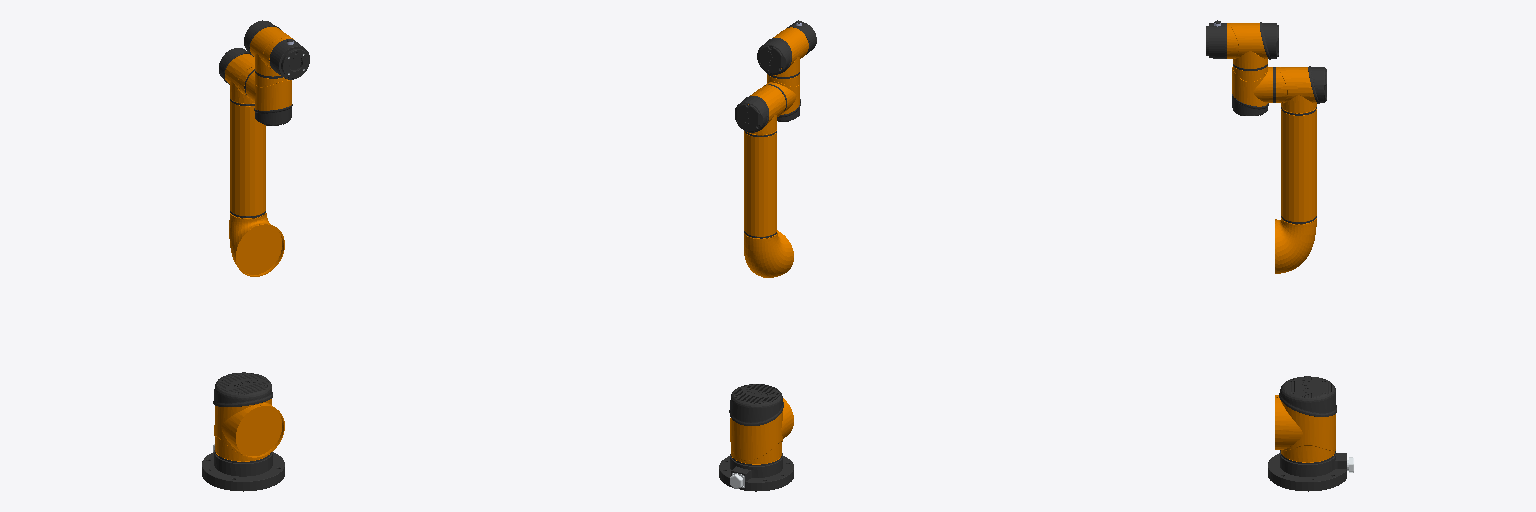
robot.urdf — aubo_i5:
<?xml version="1.0" ?>
<!-- =================================================================================== -->
<!-- |    This document was autogenerated by xacro from aubo_i5.xacro                  | -->
<!-- |    EDITING THIS FILE BY HAND IS NOT RECOMMENDED                                 | -->
<!-- =================================================================================== -->
<robot name="aubo_i5">
  <transmission name="shoulder_pan_joint_trans">
    <type>transmission_interface/SimpleTransmission</type>
    <joint name="shoulder_pan_joint">
      <hardwareInterface>hardware_interface/PositionJointInterface</hardwareInterface>
    </joint>
    <actuator name="shoulder_pan_joint_motor">
      <mechanicalReduction>1</mechanicalReduction>
      <hardwareInterface>hardware_interface/PositionJointInterface</hardwareInterface>
    </actuator>
  </transmission>
  <transmission name="shoulder_lift_joint_trans">
    <type>transmission_interface/SimpleTransmission</type>
    <joint name="shoulder_lift_joint">
      <hardwareInterface>hardware_interface/PositionJointInterface</hardwareInterface>
    </joint>
    <actuator name="shoulder_lift_joint_motor">
      <mechanicalReduction>1</mechanicalReduction>
      <hardwareInterface>hardware_interface/PositionJointInterface</hardwareInterface>
    </actuator>
  </transmission>
  <transmission name="elbow_joint_trans">
    <type>transmission_interface/SimpleTransmission</type>
    <joint name="elbow_joint">
      <hardwareInterface>hardware_interface/PositionJointInterface</hardwareInterface>
    </joint>
    <actuator name="elbow_joint_motor">
      <mechanicalReduction>1</mechanicalReduction>
      <hardwareInterface>hardware_interface/PositionJointInterface</hardwareInterface>
    </actuator>
  </transmission>
  <transmission name="wrist_1_joint_trans">
    <type>transmission_interface/SimpleTransmission</type>
    <joint name="wrist_1_joint">
      <hardwareInterface>hardware_interface/PositionJointInterface</hardwareInterface>
    </joint>
    <actuator name="wrist_1_joint_motor">
      <mechanicalReduction>1</mechanicalReduction>
      <hardwareInterface>hardware_interface/PositionJointInterface</hardwareInterface>
    </actuator>
  </transmission>
  <transmission name="wrist_2_joint_trans">
    <type>transmission_interface/SimpleTransmission</type>
    <joint name="wrist_2_joint">
      <hardwareInterface>hardware_interface/PositionJointInterface</hardwareInterface>
    </joint>
    <actuator name="wrist_2_joint_motor">
      <mechanicalReduction>1</mechanicalReduction>
      <hardwareInterface>hardware_interface/PositionJointInterface</hardwareInterface>
    </actuator>
  </transmission>
  <transmission name="wrist_3_joint_trans">
    <type>transmission_interface/SimpleTransmission</type>
    <joint name="wrist_3_joint">
      <hardwareInterface>hardware_interface/PositionJointInterface</hardwareInterface>
    </joint>
    <actuator name="wrist_3_joint_motor">
      <mechanicalReduction>1</mechanicalReduction>
      <hardwareInterface>hardware_interface/PositionJointInterface</hardwareInterface>
    </actuator>
  </transmission>
  <gazebo reference="base_link">
    <kp>1000000.0</kp>
    <kd>1.0</kd>
    <mu1>0.8</mu1>
    <mu2>0.8</mu2>
    <maxVel>0.0</maxVel>
    <minDepth>0.001</minDepth>
    <selfCollide>true</selfCollide>
  </gazebo>
  <gazebo reference="shoulder_link">
    <kp>1000000.0</kp>
    <kd>1.0</kd>
    <mu1>0.8</mu1>
    <mu2>0.8</mu2>
    <maxVel>0.0</maxVel>
    <minDepth>0.001</minDepth>
    <selfCollide>true</selfCollide>
  </gazebo>
  <gazebo reference="upper_arm_link">
    <kp>1000000.0</kp>
    <kd>1.0</kd>
    <mu1>0.8</mu1>
    <mu2>0.8</mu2>
    <maxVel>0.0</maxVel>
    <minDepth>0.001</minDepth>
    <selfCollide>true</selfCollide>
  </gazebo>
  <gazebo reference="forearm_link">
    <kp>1000000.0</kp>
    <kd>1.0</kd>
    <mu1>0.8</mu1>
    <mu2>0.8</mu2>
    <maxVel>0.0</maxVel>
    <minDepth>0.001</minDepth>
    <selfCollide>true</selfCollide>
  </gazebo>
  <gazebo reference="wrist_1_link">
    <kp>1000000.0</kp>
    <kd>1.0</kd>
    <mu1>0.8</mu1>
    <mu2>0.8</mu2>
    <maxVel>0.0</maxVel>
    <minDepth>0.001</minDepth>
    <selfCollide>true</selfCollide>
  </gazebo>
  <gazebo reference="wrist_2_link">
    <kp>1000000.0</kp>
    <kd>1.0</kd>
    <mu1>0.8</mu1>
    <mu2>0.8</mu2>
    <maxVel>0.0</maxVel>
    <minDepth>0.001</minDepth>
    <selfCollide>true</selfCollide>
  </gazebo>
  <gazebo reference="wrist_3_link">
    <kp>1000000.0</kp>
    <kd>1.0</kd>
    <mu1>0.8</mu1>
    <mu2>0.8</mu2>
    <maxVel>0.0</maxVel>
    <minDepth>0.001</minDepth>
    <selfCollide>true</selfCollide>
  </gazebo>
  <gazebo reference="shoulder_pan_joint">
    <kp>1000000.0</kp>
    <kd>1.0</kd>
    <mu1>0.8</mu1>
    <mu2>0.8</mu2>
    <maxVel>0.0</maxVel>
    <minDepth>0.001</minDepth>
    <selfCollide>true</selfCollide>
  </gazebo>
  <gazebo reference="shoulder_lift_joint">
    <kp>1000000.0</kp>
    <kd>1.0</kd>
    <mu1>0.8</mu1>
    <mu2>0.8</mu2>
    <maxVel>0.0</maxVel>
    <minDepth>0.001</minDepth>
    <selfCollide>true</selfCollide>
  </gazebo>
  <gazebo reference="elbow_joint">
    <kp>1000000.0</kp>
    <kd>1.0</kd>
    <mu1>0.8</mu1>
    <mu2>0.8</mu2>
    <maxVel>0.0</maxVel>
    <minDepth>0.001</minDepth>
    <selfCollide>true</selfCollide>
  </gazebo>
  <gazebo reference="wrist_1_joint">
    <kp>1000000.0</kp>
    <kd>1.0</kd>
    <mu1>0.8</mu1>
    <mu2>0.8</mu2>
    <maxVel>0.0</maxVel>
    <minDepth>0.001</minDepth>
    <selfCollide>true</selfCollide>
  </gazebo>
  <gazebo reference="wrist_2_joint">
    <kp>1000000.0</kp>
    <kd>1.0</kd>
    <mu1>0.8</mu1>
    <mu2>0.8</mu2>
    <maxVel>0.0</maxVel>
    <minDepth>0.001</minDepth>
    <selfCollide>true</selfCollide>
  </gazebo>
  <gazebo reference="wrist_3_joint">
    <kp>1000000.0</kp>
    <kd>1.0</kd>
    <mu1>0.8</mu1>
    <mu2>0.8</mu2>
    <maxVel>0.0</maxVel>
    <minDepth>0.001</minDepth>
    <selfCollide>true</selfCollide>
  </gazebo>
  <link name="base_link">
    <inertial>
      <origin rpy="0 0 0" xyz="5.280333978763784e-09 0.0015966894220128586 0.016570455971104445"/>
      <mass value="1.4382166298722134"/>
      <inertia ixx="0.003103" ixy="-0.0" ixz="-0.0" iyy="0.002858" iyz="-4.9e-05" izz="0.005531"/>
    </inertial>
    <visual>
      <origin rpy="-1.5707963267948966 0 0" xyz="0 0 0"/>
      <geometry>
        <mesh filename="package://aubo_i5_description/meshes/visual/base_link.dae" scale="0.001 0.001 0.001"/>
      </geometry>
    </visual>
    <collision>
      <origin rpy="0 0 0" xyz="0 0 0"/>
      <geometry>
        <mesh filename="package://aubo_i5_description/meshes/collision/base_link.stl" scale="0.001 0.001 0.001"/>
      </geometry>
    </collision>
  </link>
  <link name="shoulder_link">
    <inertial>
      <origin rpy="0 0 0" xyz="-4.185040550529615e-07 -0.00538388048820414 0.06988520317439471"/>
      <mass value="3.9977368906576385"/>
      <inertia ixx="0.010612" ixy="-0.0" ixz="0.0" iyy="0.010271" iyz="0.000382" izz="0.007824"/>
    </inertial>
    <visual>
      <origin rpy="-1.5707963267948966 0 0" xyz="0.0 -0.0 -0.0435"/>
      <geometry>
        <mesh filename="package://aubo_i5_description/meshes/visual/shoulder_link.dae" scale="0.001 0.001 0.001"/>
      </geometry>
    </visual>
    <collision>
      <origin rpy="0 0 0" xyz="0.0 -0.0 -0.0435"/>
      <geometry>
        <mesh filename="package://aubo_i5_description/meshes/collision/shoulder_link.stl" scale="0.001 0.001 0.001"/>
      </geometry>
    </collision>
  </link>
  <link name="upper_arm_link">
    <inertial>
      <origin rpy="0 0 0" xyz="4.5155821807648865e-10 -0.0717893986201179 0.20400016275508465"/>
      <mass value="10.264360778757078"/>
      <inertia ixx="0.367413" ixy="-0.0" ixz="1e-06" iyy="0.361705" iyz="-0.0" izz="0.024156"/>
    </inertial>
    <visual>
      <origin rpy="-1.5707963267948966 0 0" xyz="0.0 0.062 -0.122"/>
      <geometry>
        <mesh filename="package://aubo_i5_description/meshes/visual/upper_arm_link.dae" scale="0.001 0.001 0.001"/>
      </geometry>
    </visual>
    <collision>
      <origin rpy="0 0 0" xyz="0.0 0.062 -0.122"/>
      <geometry>
        <mesh filename="package://aubo_i5_description/meshes/collision/upper_arm_link.stl" scale="0.001 0.001 0.001"/>
      </geometry>
    </collision>
  </link>
  <link name="forearm_link">
    <inertial>
      <origin rpy="0 0 0" xyz="-8.598904331136158e-08 0.03777959596600701 0.18625691250689058"/>
      <mass value="5.717058820664718"/>
      <inertia ixx="0.110129" ixy="-0.0" ixz="0.0" iyy="0.109705" iyz="-0.000971" izz="0.005171"/>
    </inertial>
    <visual>
      <origin rpy="-1.5707963267948966 0 0" xyz="0.0 0.062 -0.53"/>
      <geometry>
        <mesh filename="package://aubo_i5_description/meshes/visual/forearm_link.dae" scale="0.001 0.001 0.001"/>
      </geometry>
    </visual>
    <collision>
      <origin rpy="0 0 0" xyz="0.0 0.062 -0.53"/>
      <geometry>
        <mesh filename="package://aubo_i5_description/meshes/collision/forearm_link.stl" scale="0.001 0.001 0.001"/>
      </geometry>
    </collision>
  </link>
  <link name="wrist_1_link">
    <inertial>
      <origin rpy="0 0 0" xyz="4.043690373112674e-07 -0.03781762705264109 0.010378004019249931"/>
      <mass value="1.1959791801557391"/>
      <inertia ixx="0.001481" ixy="0.0" ixz="0.0" iyy="0.001416" iyz="7.9e-05" izz="0.000986"/>
    </inertial>
    <visual>
      <origin rpy="-1.5707963267948966 0 0" xyz="0.0 0.0795 -0.906"/>
      <geometry>
        <mesh filename="package://aubo_i5_description/meshes/visual/wrist_1_link.dae" scale="0.001 0.001 0.001"/>
      </geometry>
    </visual>
    <collision>
      <origin rpy="0 0 0" xyz="0.0 0.0795 -0.906"/>
      <geometry>
        <mesh filename="package://aubo_i5_description/meshes/collision/wrist_1_link.stl" scale="0.001 0.001 0.001"/>
      </geometry>
    </collision>
  </link>
  <link name="wrist_2_link">
    <inertial>
      <origin rpy="0 0 0" xyz="-3.835911159071275e-07 -0.010378293494720053 0.03781729945949308"/>
      <mass value="1.195979134054204"/>
      <inertia ixx="0.001481" ixy="0.0" ixz="0.0" iyy="0.000986" iyz="7.9e-05" izz="0.001416"/>
    </inertial>
    <visual>
      <origin rpy="-1.5707963267948966 0 0" xyz="0.0 0.1215 -0.96656"/>
      <geometry>
        <mesh filename="package://aubo_i5_description/meshes/visual/wrist_2_link.dae" scale="0.001 0.001 0.001"/>
      </geometry>
    </visual>
    <collision>
      <origin rpy="0 0 0" xyz="0.0 0.1215 -0.96656"/>
      <geometry>
        <mesh filename="package://aubo_i5_description/meshes/collision/wrist_2_link.stl" scale="0.001 0.001 0.001"/>
      </geometry>
    </collision>
  </link>
  <link name="wrist_3_link">
    <inertial>
      <origin rpy="0 0 0" xyz="4.15409377624965e-09 -0.01855349466746148 0.0003522591384534923"/>
      <mass value="0.19247764025253766"/>
      <inertia ixx="0.000104" ixy="0.0" ixz="-0.0" iyy="0.000169" iyz="-1e-06" izz="0.000101"/>
    </inertial>
    <visual>
      <origin rpy="-1.5707963267948966 0 0" xyz="0.0 0.18206 -1.00856"/>
      <geometry>
        <mesh filename="package://aubo_i5_description/meshes/visual/wrist_3_link.dae" scale="0.001 0.001 0.001"/>
      </geometry>
    </visual>
    <collision>
      <origin rpy="0 0 0" xyz="0.0 0.18206 -1.00856"/>
      <geometry>
        <mesh filename="package://aubo_i5_description/meshes/collision/wrist_3_link.stl" scale="0.001 0.001 0.001"/>
      </geometry>
    </collision>
  </link>
  <joint name="base_joint" type="fixed">
    <parent link="world"/>
    <child link="base_link"/>
    <origin rpy="0 0 0" xyz="0 0 0"/>
  </joint>
  <joint name="shoulder_pan_joint" type="revolute">
    <origin rpy="0 0 0" xyz="0.0 0.0 0.0435"/>
    <parent link="base_link"/>
    <child link="shoulder_link"/>
    <axis xyz="-0.0 0.0 1.0"/>
    <limit effort="300.0" lower="-3.04" upper="3.04" velocity="3.141592653589793"/>
  </joint>
  <joint name="shoulder_lift_joint" type="revolute">
    <origin rpy="0 0 0" xyz="0.0 -0.062 0.0785"/>
    <parent link="shoulder_link"/>
    <child link="upper_arm_link"/>
    <axis xyz="-0.0 -1.0 0.0"/>
    <limit effort="300.0" lower="-3.04" upper="3.04" velocity="3.141592653589793"/>
  </joint>
  <joint name="elbow_joint" type="revolute">
    <origin rpy="0 0 0" xyz="0.0 0.0 0.408"/>
    <parent link="upper_arm_link"/>
    <child link="forearm_link"/>
    <axis xyz="-0.0 1.0 -0.0"/>
    <limit effort="300.0" lower="-3.04" upper="3.04" velocity="3.141592653589793"/>
  </joint>
  <joint name="wrist_1_joint" type="revolute">
    <origin rpy="0 0 0" xyz="0.0 -0.0175 0.376"/>
    <parent link="forearm_link"/>
    <child link="wrist_1_link"/>
    <axis xyz="-0.0 -1.0 0.0"/>
    <limit effort="50.0" lower="-3.04" upper="3.04" velocity="3.141592653589793"/>
  </joint>
  <joint name="wrist_2_joint" type="revolute">
    <origin rpy="0 0 0" xyz="0.0 -0.042 0.06056"/>
    <parent link="wrist_1_link"/>
    <child link="wrist_2_link"/>
    <axis xyz="-0.0 0.0 1.0"/>
    <limit effort="50.0" lower="-3.04" upper="3.04" velocity="3.141592653589793"/>
  </joint>
  <joint name="wrist_3_joint" type="revolute">
    <origin rpy="0 0 0" xyz="0.0 -0.06056 0.042"/>
    <parent link="wrist_2_link"/>
    <child link="wrist_3_link"/>
    <axis xyz="-0.0 -1.0 0.0"/>
    <limit effort="50.0" lower="-3.04" upper="3.04" velocity="3.141592653589793"/>
  </joint>
  <link name="world"/>
  <gazebo>
    <plugin filename="libgazebo_ros_control.so" name="ros_control"/>
  </gazebo>
</robot>

--- What the picture shows (computed from the rendered views, not written in the file) ---
Views: 3 orthographic renders of the robot side by side, from view 1: azimuth 30°, elevation 25°; view 2: azimuth 150°, elevation 25°; view 3: azimuth 270°, elevation 25°.
Robot: aubo_i5 — 8 links, 7 joints (6 revolute, 1 fixed); root link world; default pose: every joint at zero.
Links seen in each view (by area): view 1: forearm_link, shoulder_link, base_link, wrist_1_link, wrist_2_link, wrist_3_link; view 2: forearm_link, shoulder_link, base_link, wrist_2_link, wrist_1_link; view 3: forearm_link, shoulder_link, base_link, wrist_2_link, wrist_1_link, wrist_3_link.
Boxes of the visible links, bbox=[...] form: forearm_link: bbox=[219, 48, 284, 276]; shoulder_link: bbox=[213, 372, 284, 462]; base_link: bbox=[202, 444, 284, 491]; wrist_1_link: bbox=[246, 71, 292, 125]; wrist_2_link: bbox=[244, 20, 294, 76]; wrist_3_link: bbox=[271, 39, 309, 79]; forearm_link: bbox=[735, 84, 793, 277]; shoulder_link: bbox=[729, 384, 793, 465]; base_link: bbox=[719, 453, 793, 491]; wrist_2_link: bbox=[757, 26, 809, 76]; wrist_1_link: bbox=[764, 72, 800, 121]; forearm_link: bbox=[1273, 66, 1326, 273]; shoulder_link: bbox=[1275, 376, 1336, 463]; base_link: bbox=[1268, 450, 1353, 491]; wrist_2_link: bbox=[1225, 22, 1278, 68]; wrist_1_link: bbox=[1232, 64, 1272, 115]; wrist_3_link: bbox=[1206, 20, 1224, 58].
Size in the robot's own frame: 0.17 by 0.3129 by 1.05 metres.
6 mesh visuals loaded from 7 distinct referenced files (6 Collada DAE); not drawn: 1 (reference not matched to a file when rendering).